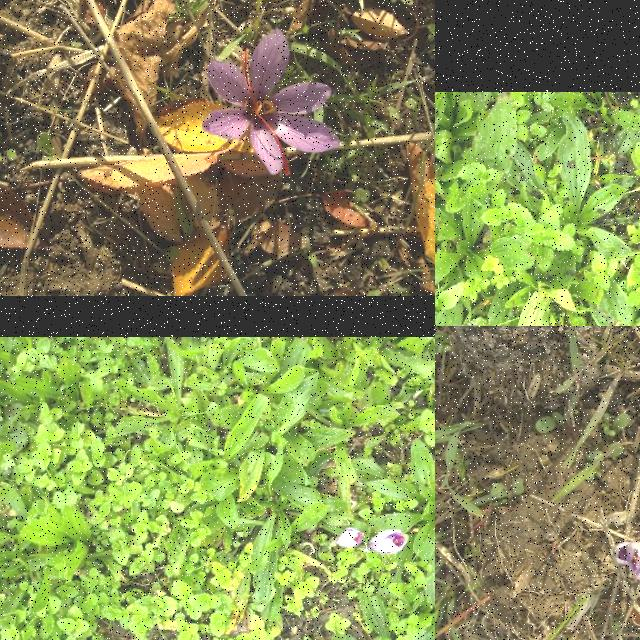flower: (202, 30, 338, 176), (612, 541, 640, 586), (370, 530, 410, 554), (338, 528, 366, 548)
